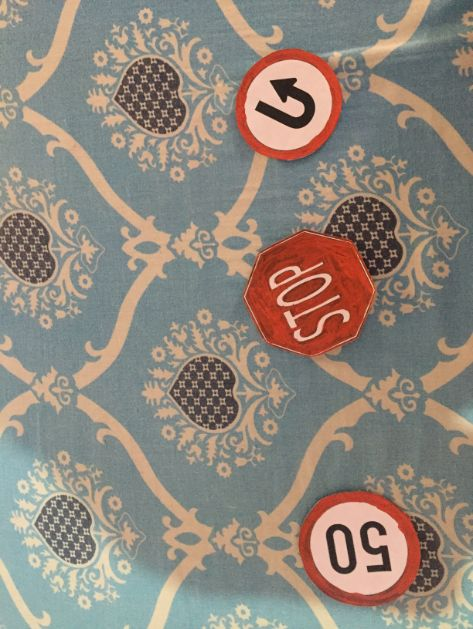speed-50: (300, 488, 420, 608)
stop: (242, 228, 377, 363)
u-turn: (233, 47, 349, 163)
